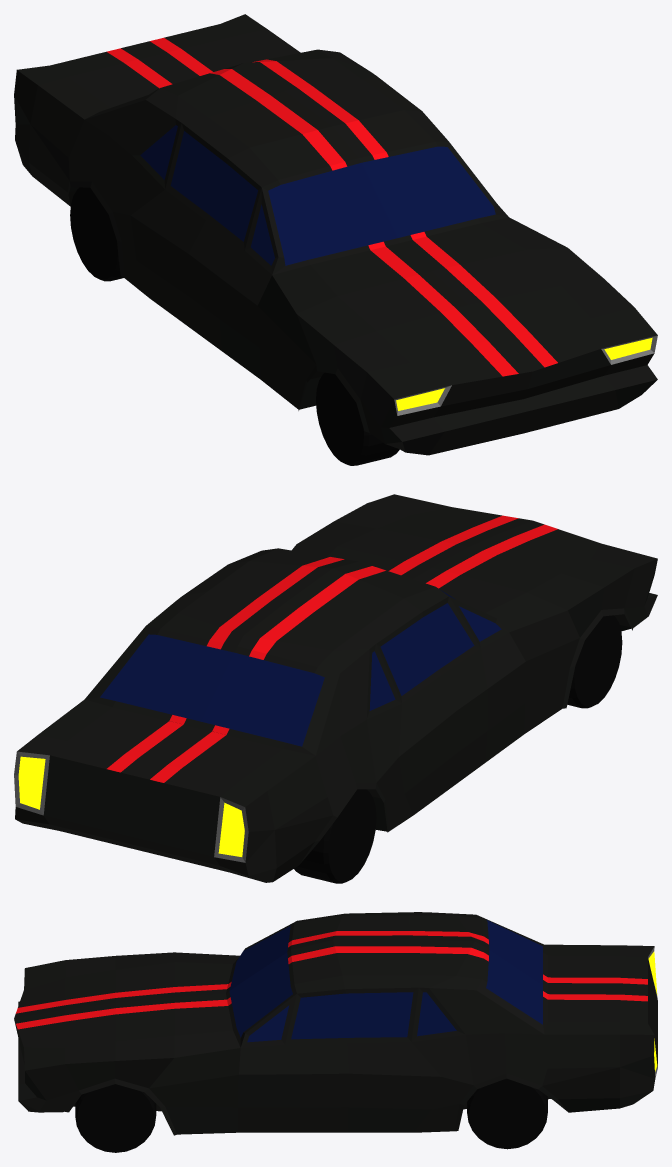
The model's file is Mustung1965.fbx.
3 views of the same model, one above another, from view 1: azimuth 30°, elevation 25°; view 2: azimuth 150°, elevation 25°; view 3: azimuth 270°, elevation 25° (orthographic). The views are drawn at different scales.
Parts seen in each view (by area): view 1: CarBody, FR_Wheel, BR_Wheel; view 2: CarBody, BR_Wheel, FR_Wheel; view 3: CarBody, BL_Wheel, FL_Wheel.
Boxes of the visible parts, x1=… form: CarBody: x1=14, y1=14, x2=657, y2=455; FR_Wheel: x1=316, y1=372, x2=399, y2=465; BR_Wheel: x1=70, y1=187, x2=123, y2=281; CarBody: x1=14, y1=494, x2=657, y2=882; BR_Wheel: x1=294, y1=789, x2=376, y2=883; FR_Wheel: x1=567, y1=615, x2=622, y2=708; CarBody: x1=14, y1=912, x2=657, y2=1135; BL_Wheel: x1=467, y1=1078, x2=547, y2=1149; FL_Wheel: x1=75, y1=1084, x2=156, y2=1152.
Size of the model in its own units: 7.03 by 5.11 by 18.13.
